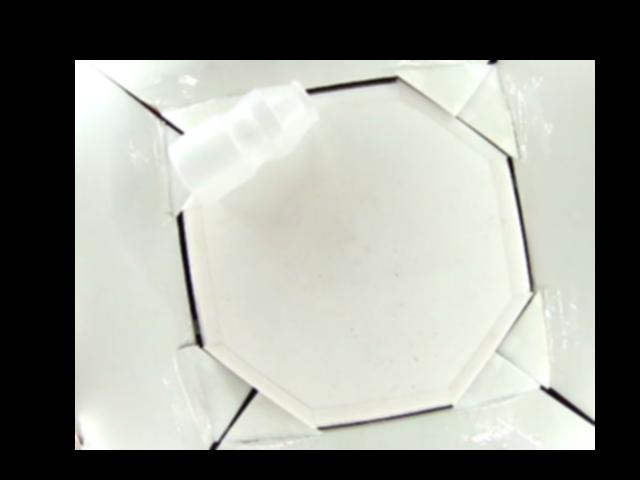Bottle: (168, 79, 321, 207)
